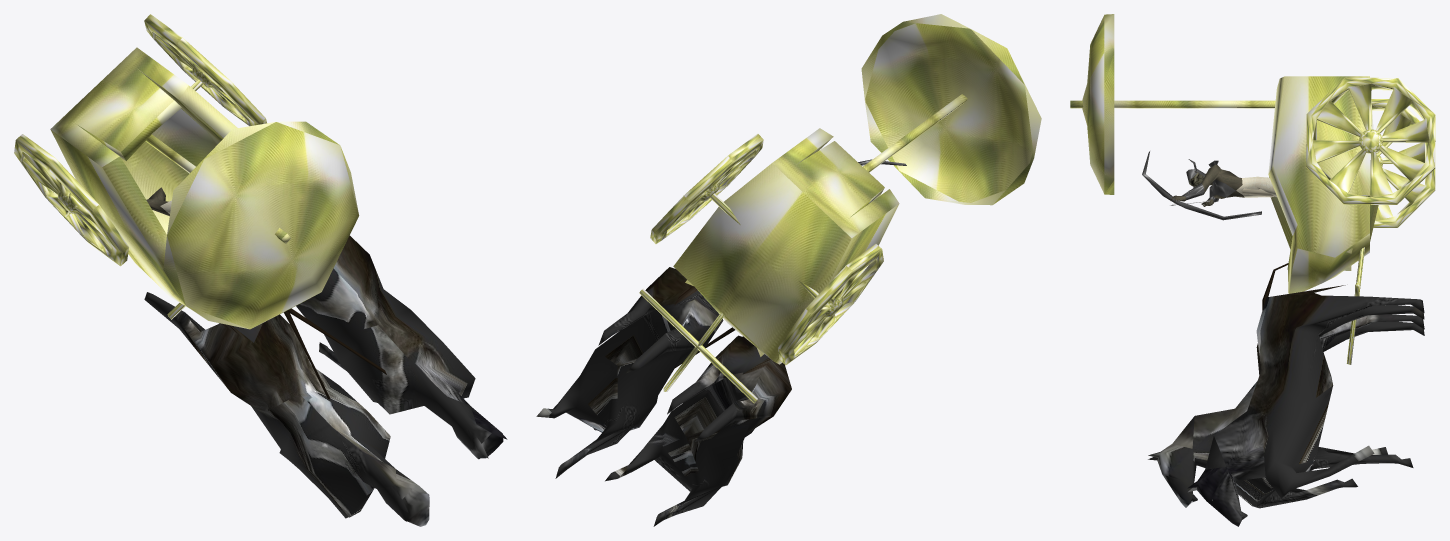
File: chariot_000217.obj
3 renders of one model, left to right at view 1: azimuth 30°, elevation 25°; view 2: azimuth 150°, elevation 25°; view 3: azimuth 270°, elevation 25°, orthographic. The views are drawn at different scales.
Parts seen in each view (by area): view 1: umbrella_Sphere, Horse.000_objHorse_0.001, chariot_Cube.001, Horse.001_objHorse_0.002, wheelR_Cylinder, wheelL_Cylinder.003, Cylinder_Cylinder.001; view 2: chariot_Cube.001, umbrella_Sphere, Horse.001_objHorse_0.002, Horse.000_objHorse_0.001, wheelR_Cylinder, wheelL_Cylinder.003, rod_Cylinder.002; view 3: Horse.001_objHorse_0.002, chariot_Cube.001, wheelL_Cylinder.003, Horse.000_objHorse_0.001, umbrella_Sphere, A4_Circle, wheelR_Cylinder, rod_Cylinder.002.
Part boxes in pixels (x1,y1,x2,y2): umbrella_Sphere: (145,121,359,329); Horse.000_objHorse_0.001: (144,292,429,526); chariot_Cube.001: (50,47,237,306); Horse.001_objHorse_0.002: (296,235,507,459); wheelR_Cylinder: (14,134,128,266); wheelL_Cylinder.003: (144,14,266,126); Cylinder_Cylinder.001: (284,308,386,399); chariot_Cube.001: (673,128,899,364); umbrella_Sphere: (861,14,1041,205); Horse.001_objHorse_0.002: (536,267,723,478); Horse.000_objHorse_0.001: (605,335,791,526); wheelR_Cylinder: (778,244,883,365); wheelL_Cylinder.003: (650,134,763,243); rod_Cylinder.002: (639,193,818,403); Horse.001_objHorse_0.002: (1187,285,1424,526); chariot_Cube.001: (1268,76,1378,293); wheelL_Cylinder.003: (1306,77,1435,204); Horse.000_objHorse_0.001: (1148,314,1424,508); umbrella_Sphere: (1070,14,1275,194); A4_Circle: (1142,151,1276,220); wheelR_Cylinder: (1371,99,1435,227); rod_Cylinder.002: (1346,247,1364,364).
Bounding box in the file's own units: 6.82 × 7.95 × 6.33.
